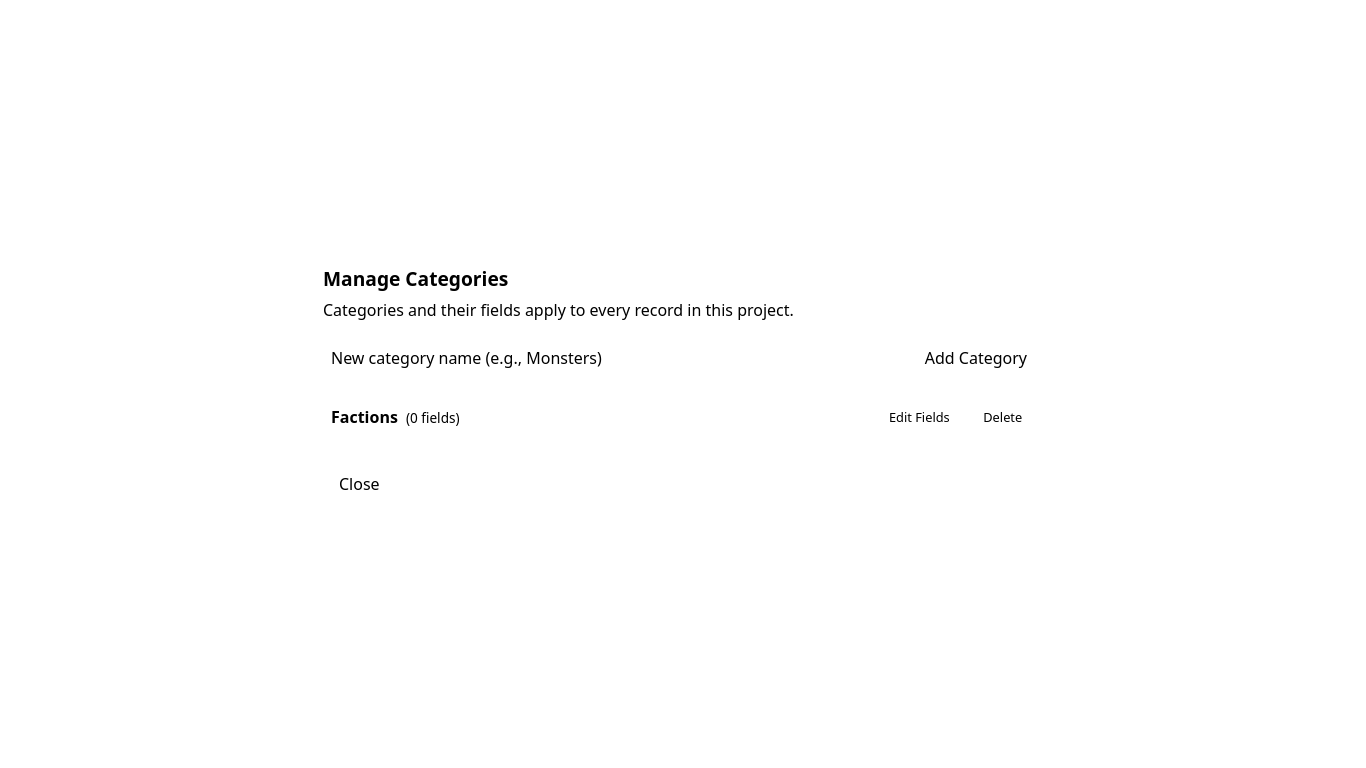
it: CategoryManager › lets Escape close only the delete confirmation when it is open
Click the button with aria-label "Delete Factions" at [1003, 417], box [970,402,1035,433]
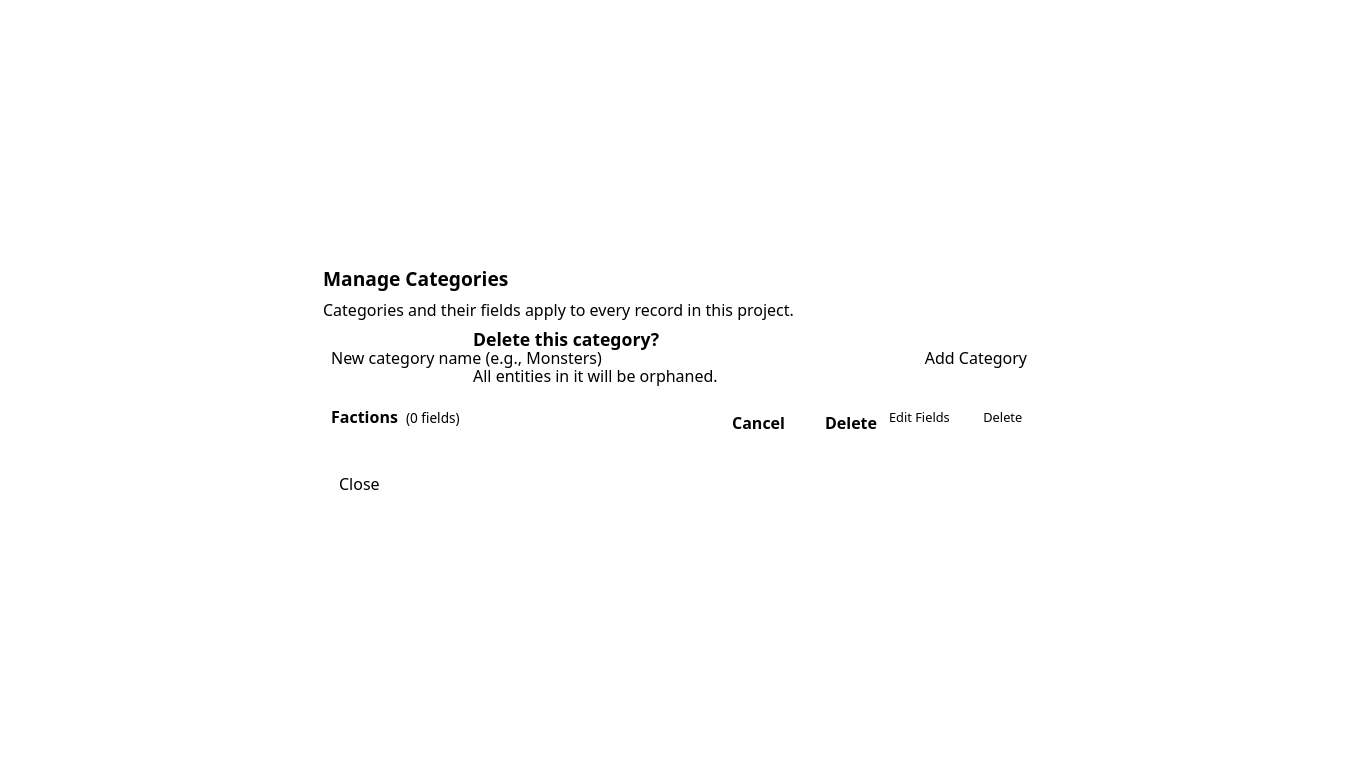
Expected: the dialog "Delete this category?" is shown, [453,306,913,462]
Press Escape
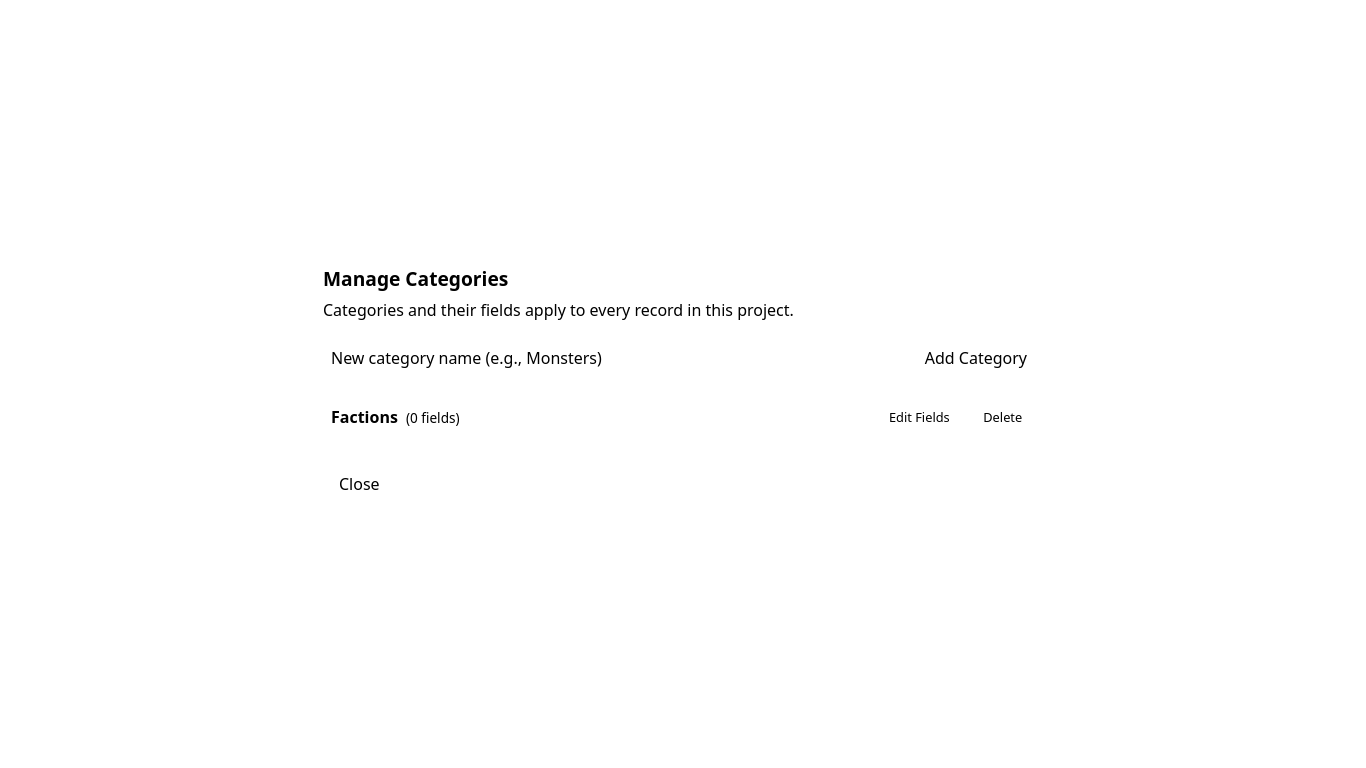
Expected: the heading "Delete this category?" is gone
